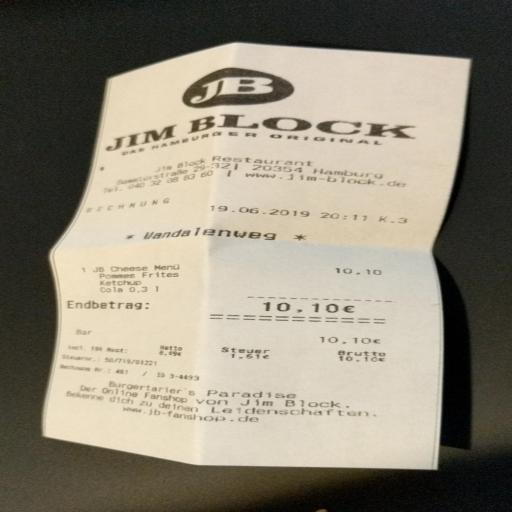paper: (35, 15, 453, 509)
